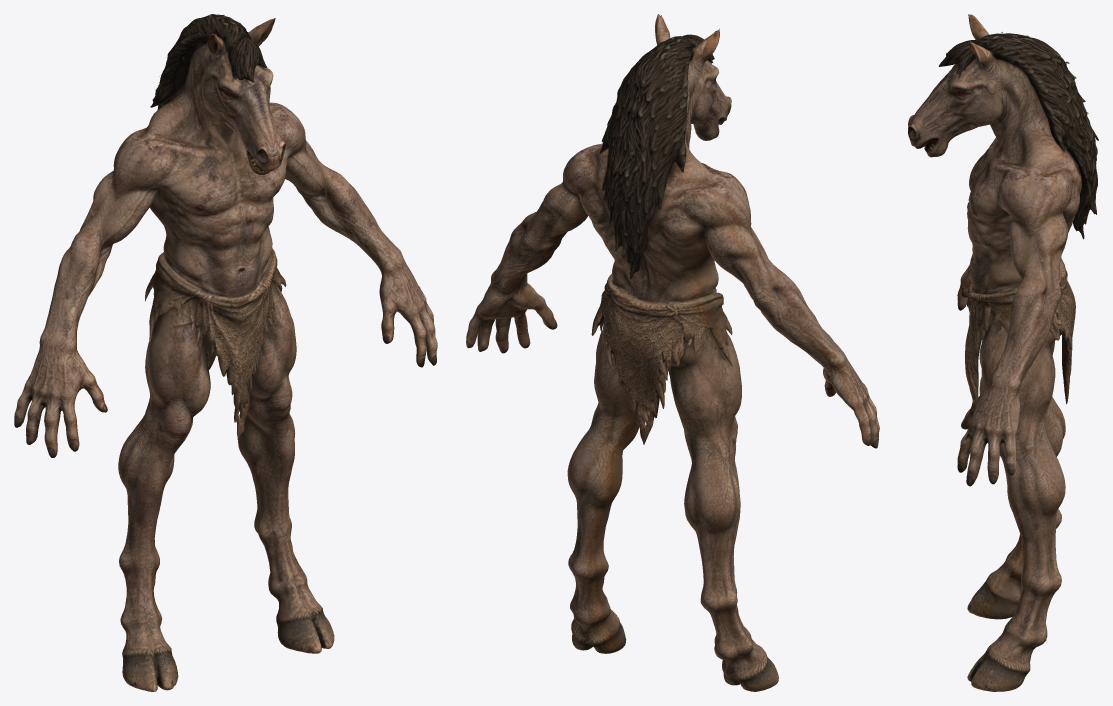
File: tikbalang.glb
3 views of the same model, side by side, from view 1: azimuth 30°, elevation 25°; view 2: azimuth 150°, elevation 25°; view 3: azimuth 270°, elevation 25° (orthographic). The views are drawn at different scales.
Visible parts, largest first — view 1: tikbalang; view 2: tikbalang; view 3: tikbalang.
Boxes of the visible parts, x1,y1,x2,y2 form: tikbalang: (14,14,437,691); tikbalang: (466,14,879,691); tikbalang: (908,14,1098,691).
Size of the model in its own units: 0.653 by 0.977 by 0.2729.
Materials: 1 (1 with a texture image).
